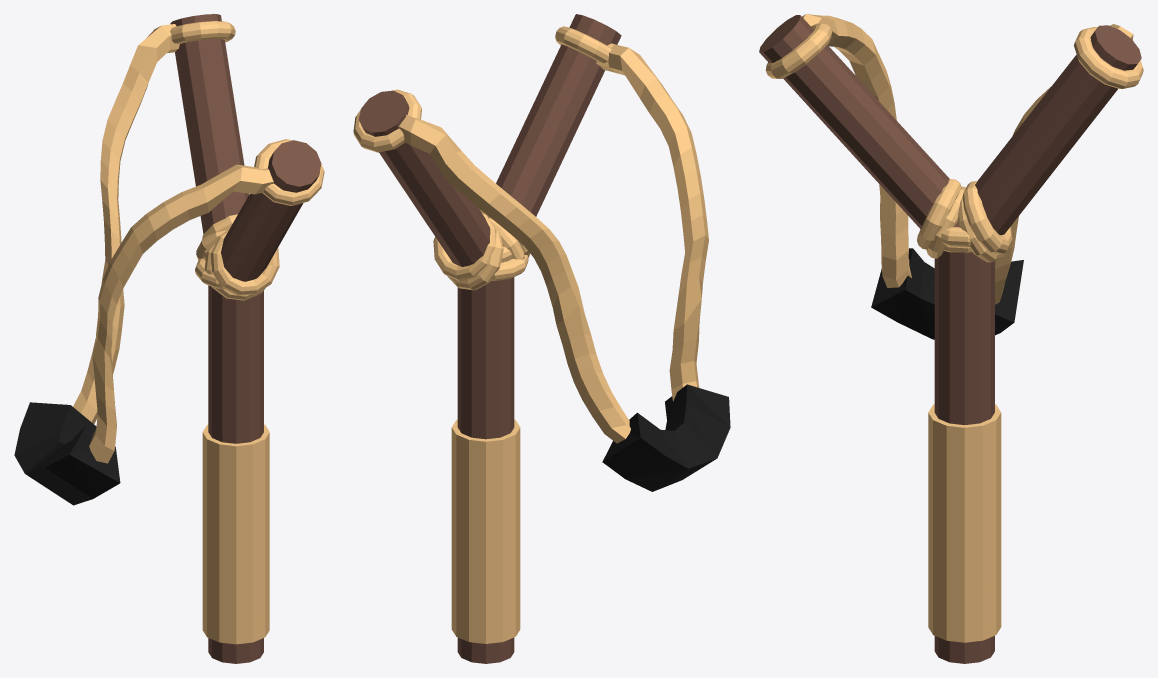
The model's file is Slingshit.fbx.
3 renders of one model, left to right at view 1: azimuth 30°, elevation 25°; view 2: azimuth 150°, elevation 25°; view 3: azimuth 270°, elevation 25°, orthographic. The views are drawn at different scales.
Parts seen in each view (by area): view 1: model; view 2: model; view 3: model.
Boxes of the visible parts, x1=… form: model: x1=14, y1=14, x2=324, y2=663; model: x1=353, y1=14, x2=730, y2=663; model: x1=759, y1=14, x2=1143, y2=663.
Size of the model in its own units: 75.36 by 151 by 82.75.
